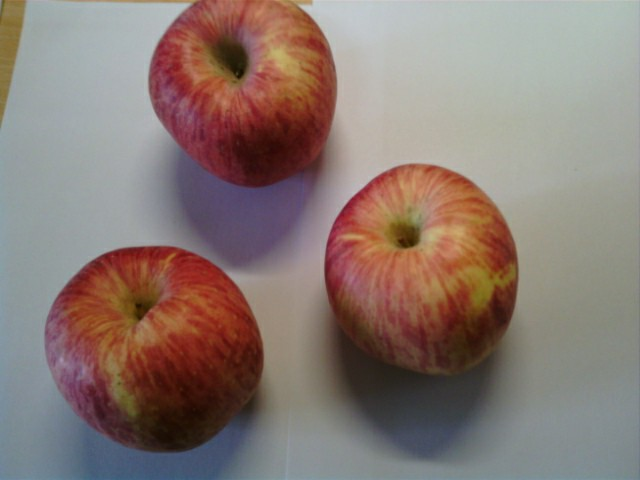normal_apple: (46, 245, 262, 452), (326, 165, 522, 377), (148, 1, 338, 190)
